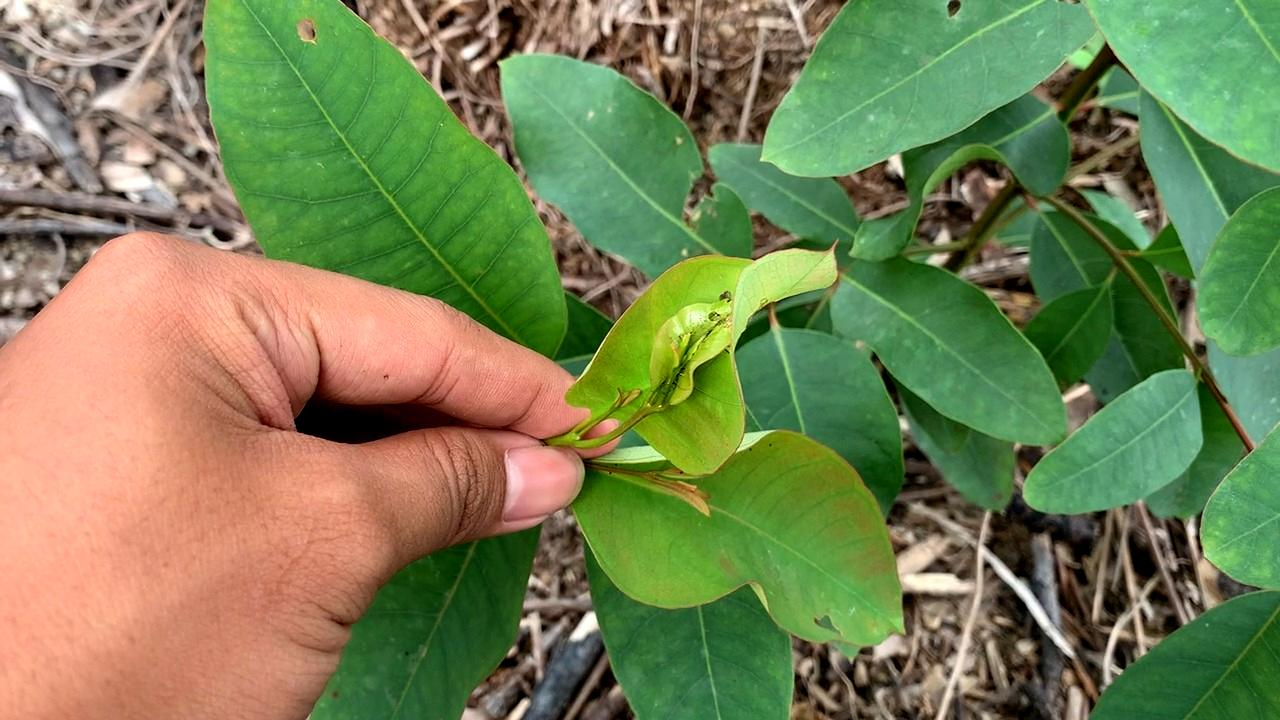Leaf Roller - Leaf: (556, 206, 841, 478)
